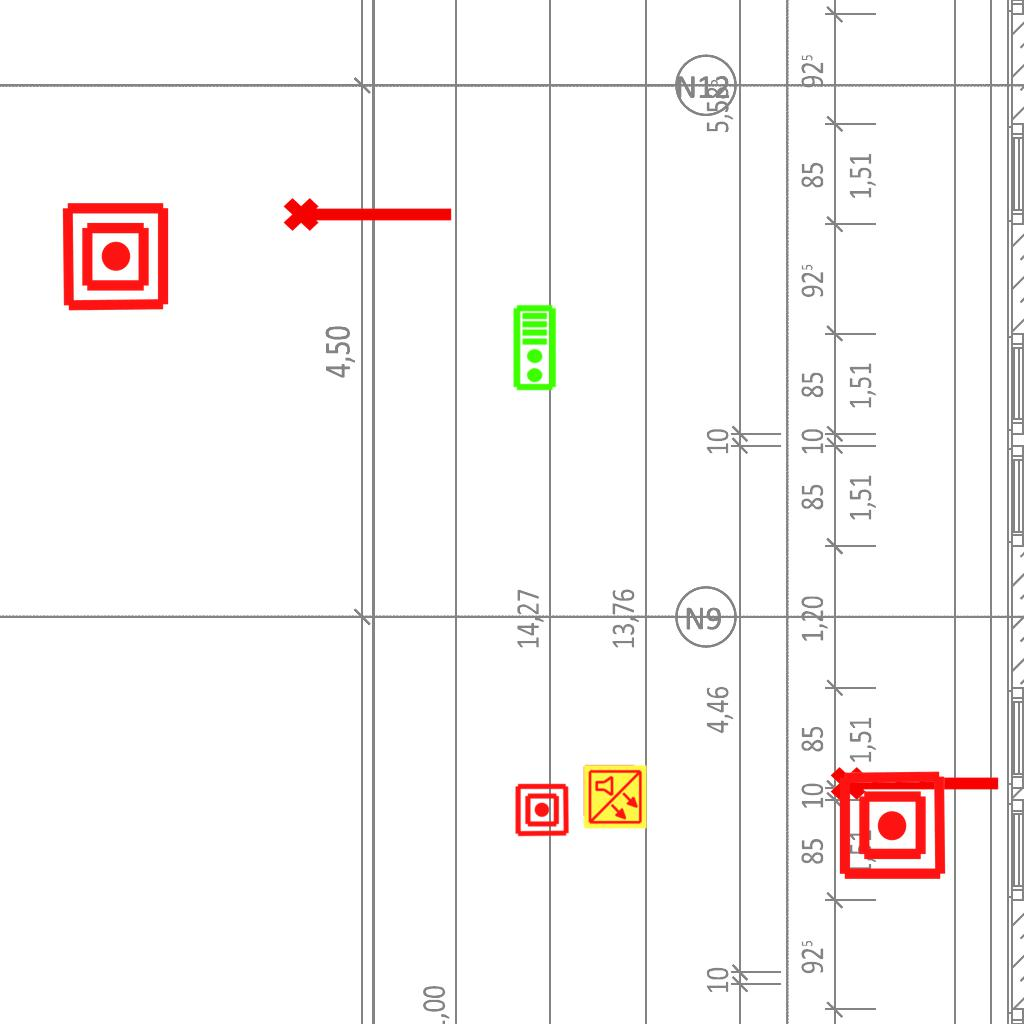ASR_Ansaugoeffnung: (828, 758, 1004, 804), (281, 189, 457, 235)
Gegensprechanlage_mit_Video: (512, 304, 559, 392)
NAM-Nichtautomatischer_Melder: (59, 200, 172, 313), (836, 769, 949, 882), (514, 782, 570, 838)
OKW_Multisensormelder_(Kombination_optischer_Rauch-Kahlenmonoxid_Waerme-Melder): (582, 764, 648, 830)
